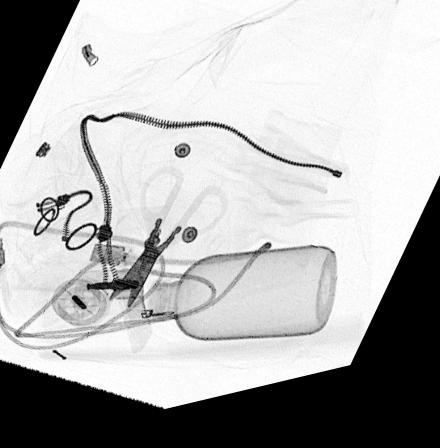Scissors: (104, 172, 234, 322)
